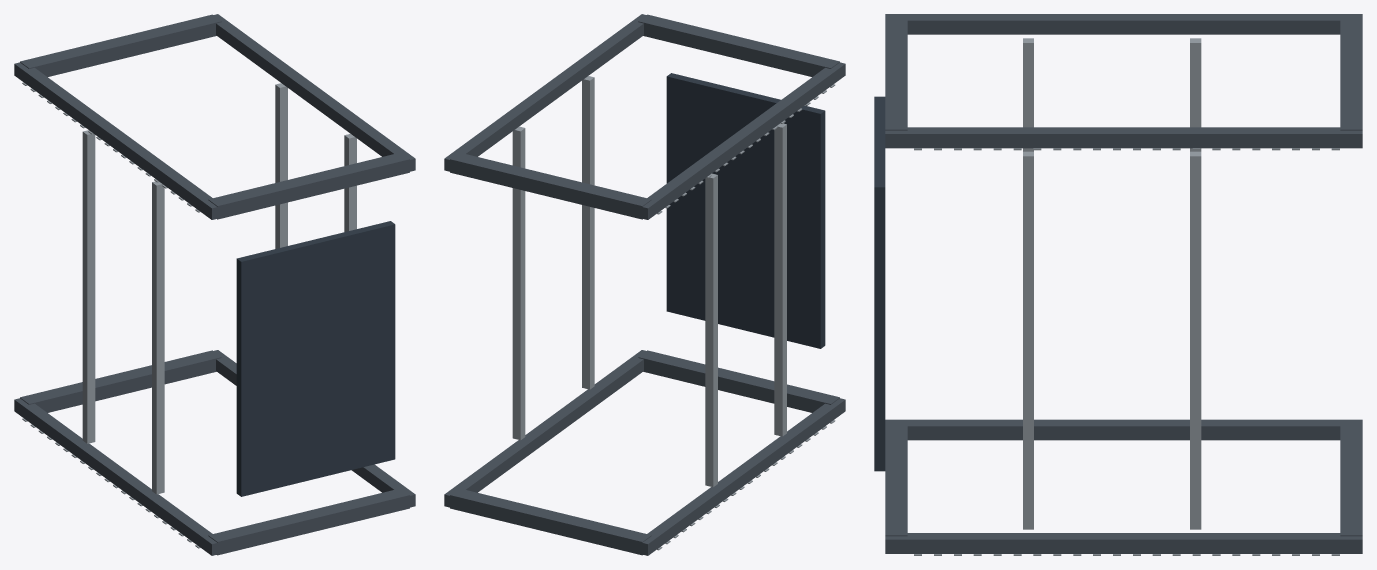
The model's file is rack_24u.glb.
3 views of the same model, side by side, from view 1: azimuth 30°, elevation 25°; view 2: azimuth 150°, elevation 25°; view 3: azimuth 270°, elevation 25° (orthographic). The views are drawn at different scales.
Visible parts, largest first — view 1: 100_top cable tray, 023_vertical rack post, 000_vertical rack post, 094_rack crossbar, 095_rack rear crossbar, 069_vertical rack post, 096_rack side brace, 093_rack rear crossbar, 097_rack side brace, 092_rack crossbar, 098_rack side brace, 046_vertical rack post (+1 smaller); view 2: 100_top cable tray, 023_vertical rack post, 000_vertical rack post, 092_rack crossbar, 093_rack rear crossbar, 069_vertical rack post, 046_vertical rack post, 095_rack rear crossbar, 098_rack side brace, 096_rack side brace, 097_rack side brace, 099_rack side brace (+1 smaller); view 3: 069_vertical rack post, 046_vertical rack post, 023_vertical rack post, 000_vertical rack post, 098_rack side brace, 100_top cable tray, 099_rack side brace, 092_rack crossbar, 093_rack rear crossbar, 094_rack crossbar, 095_rack rear crossbar, 096_rack side brace (+1 smaller).
Part boxes in pixels (x1,y1,x2,y2): 100_top cable tray: (236, 221, 395, 496); 023_vertical rack post: (14, 62, 223, 219); 000_vertical rack post: (14, 398, 223, 555); 094_rack crossbar: (208, 488, 409, 555); 095_rack rear crossbar: (208, 152, 409, 219); 069_vertical rack post: (213, 14, 415, 172); 096_rack side brace: (82, 130, 95, 443); 093_rack rear crossbar: (20, 14, 221, 76); 097_rack side brace: (152, 181, 164, 494); 092_rack crossbar: (20, 350, 221, 412); 098_rack side brace: (275, 83, 287, 248); 046_vertical rack post: (214, 350, 415, 507); 100_top cable tray: (666, 73, 825, 348); 023_vertical rack post: (636, 62, 845, 219); 000_vertical rack post: (636, 398, 845, 555); 092_rack crossbar: (450, 488, 651, 555); 093_rack rear crossbar: (450, 152, 651, 219); 069_vertical rack post: (444, 14, 646, 172); 046_vertical rack post: (444, 350, 645, 508); 095_rack rear crossbar: (638, 14, 839, 76); 098_rack side brace: (512, 126, 525, 440); 096_rack side brace: (705, 173, 717, 487); 097_rack side brace: (774, 123, 786, 436); 099_rack side brace: (582, 76, 594, 389); 069_vertical rack post: (885, 127, 1362, 148); 046_vertical rack post: (885, 533, 1362, 553); 023_vertical rack post: (885, 14, 1362, 34); 000_vertical rack post: (885, 419, 1362, 440); 098_rack side brace: (1190, 151, 1201, 529); 100_top cable tray: (874, 96, 885, 471); 099_rack side brace: (1023, 151, 1033, 529); 092_rack crossbar: (1340, 422, 1362, 536); 093_rack rear crossbar: (1340, 16, 1362, 130); 094_rack crossbar: (885, 422, 907, 536); 095_rack rear crossbar: (885, 16, 907, 130); 096_rack side brace: (1190, 38, 1201, 151).
Size of the model in its own units: 0.644 by 1.04 by 1.09.
